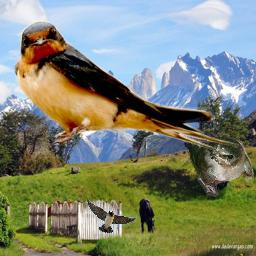Swallow: (12, 20, 239, 159), (180, 131, 254, 197), (86, 198, 137, 233)
